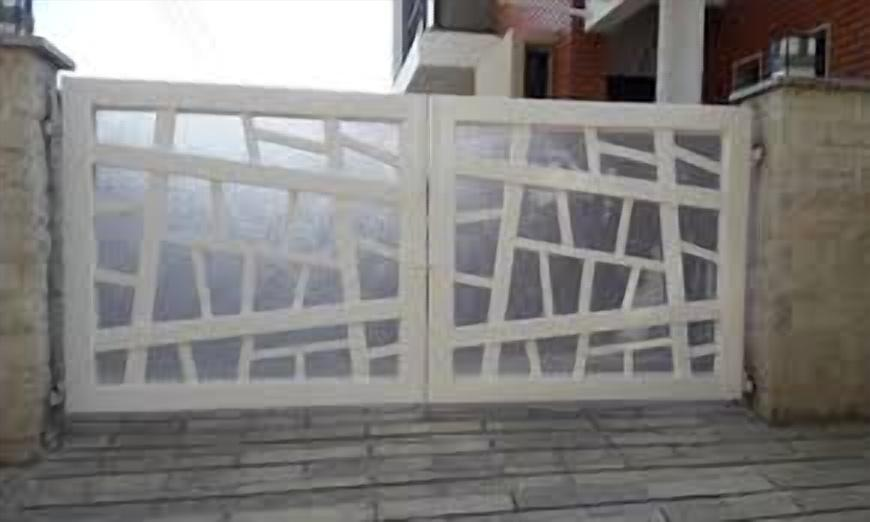Building: (388, 0, 870, 310)
Door: (609, 75, 663, 119)
Gate: (51, 75, 751, 414)
Window-without-grill: (733, 31, 826, 93), (522, 46, 553, 105)
